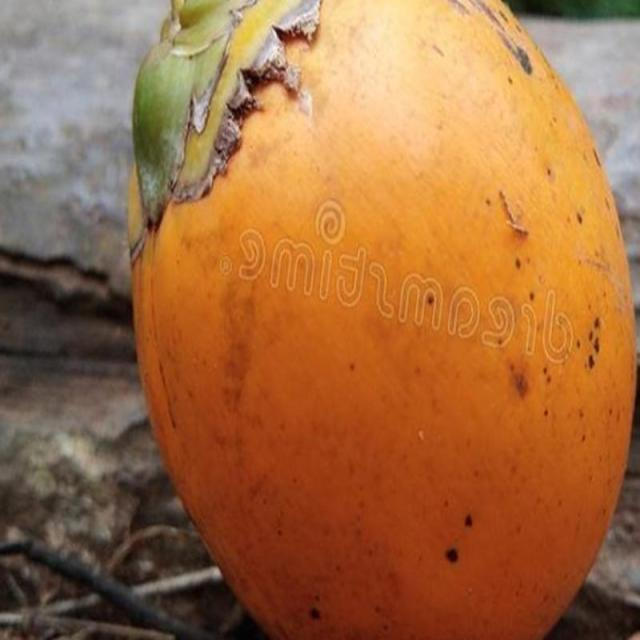good: (126, 0, 639, 639)
